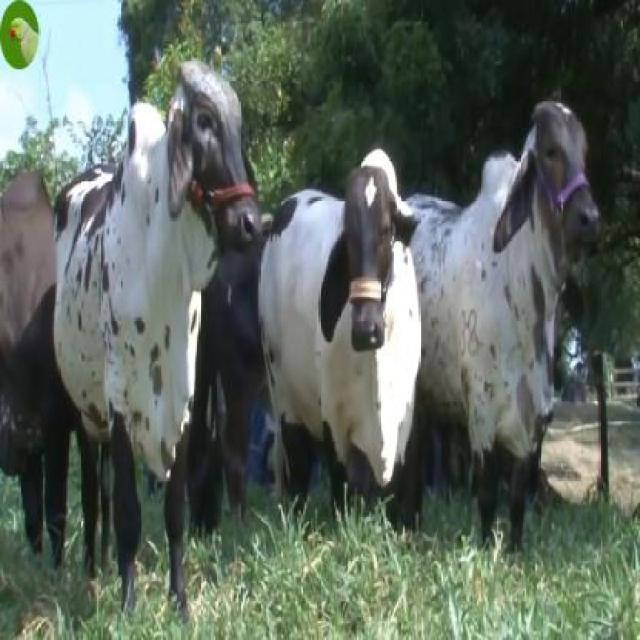Cow: (56, 60, 256, 620), (410, 94, 598, 572), (260, 151, 420, 540)
